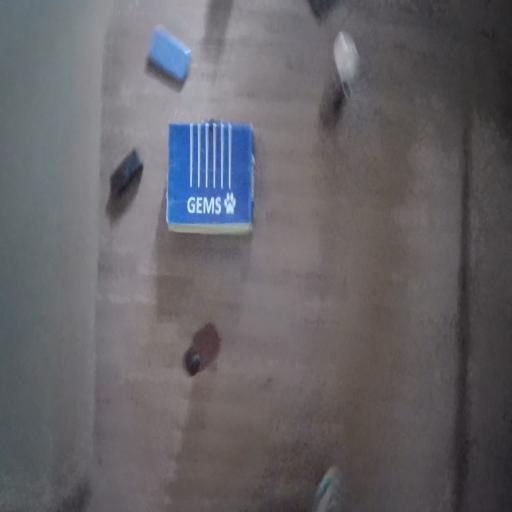Bottle: (168, 318, 230, 397)
